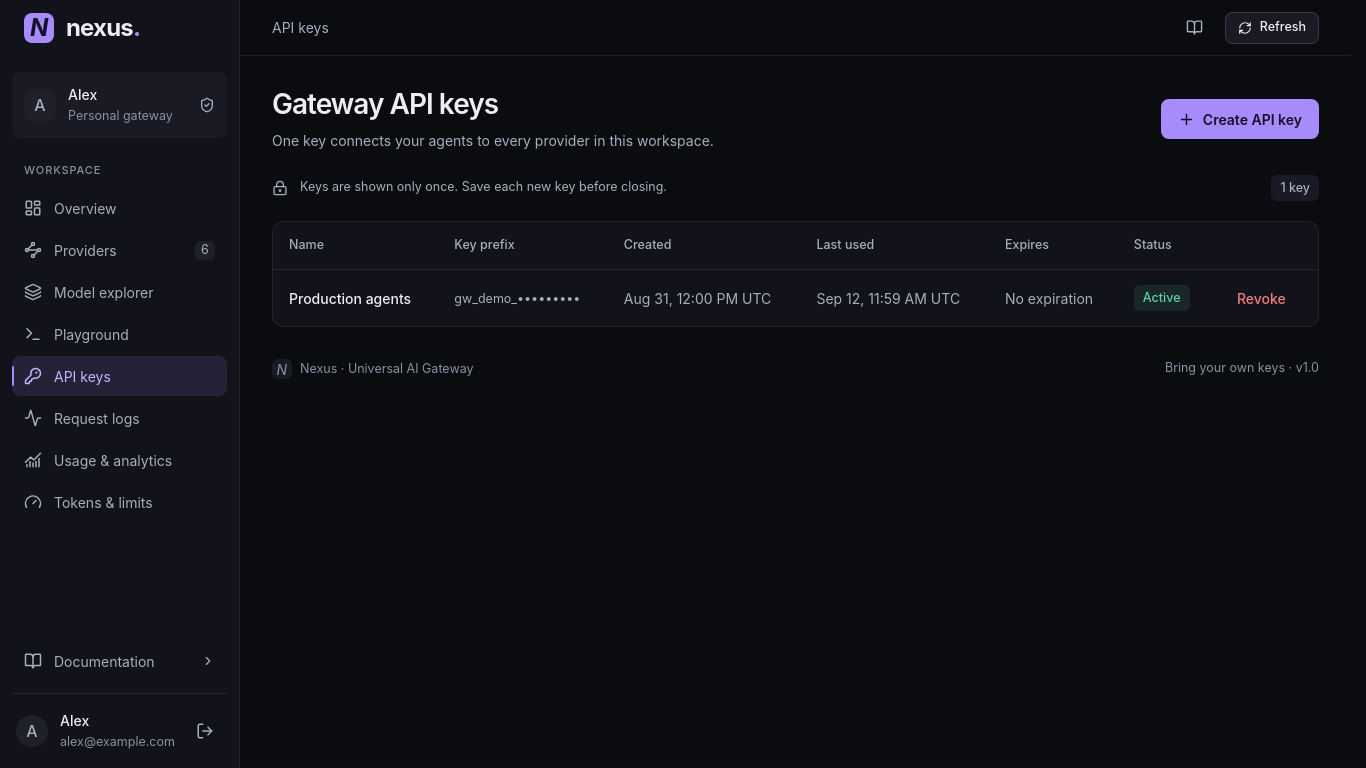
Test case: Authenticated workspace actions › keeps key-creation errors inside the active dialog
Click the button "Create API key" at {"x": 1240, "y": 119}, box [1161,99,1319,139]
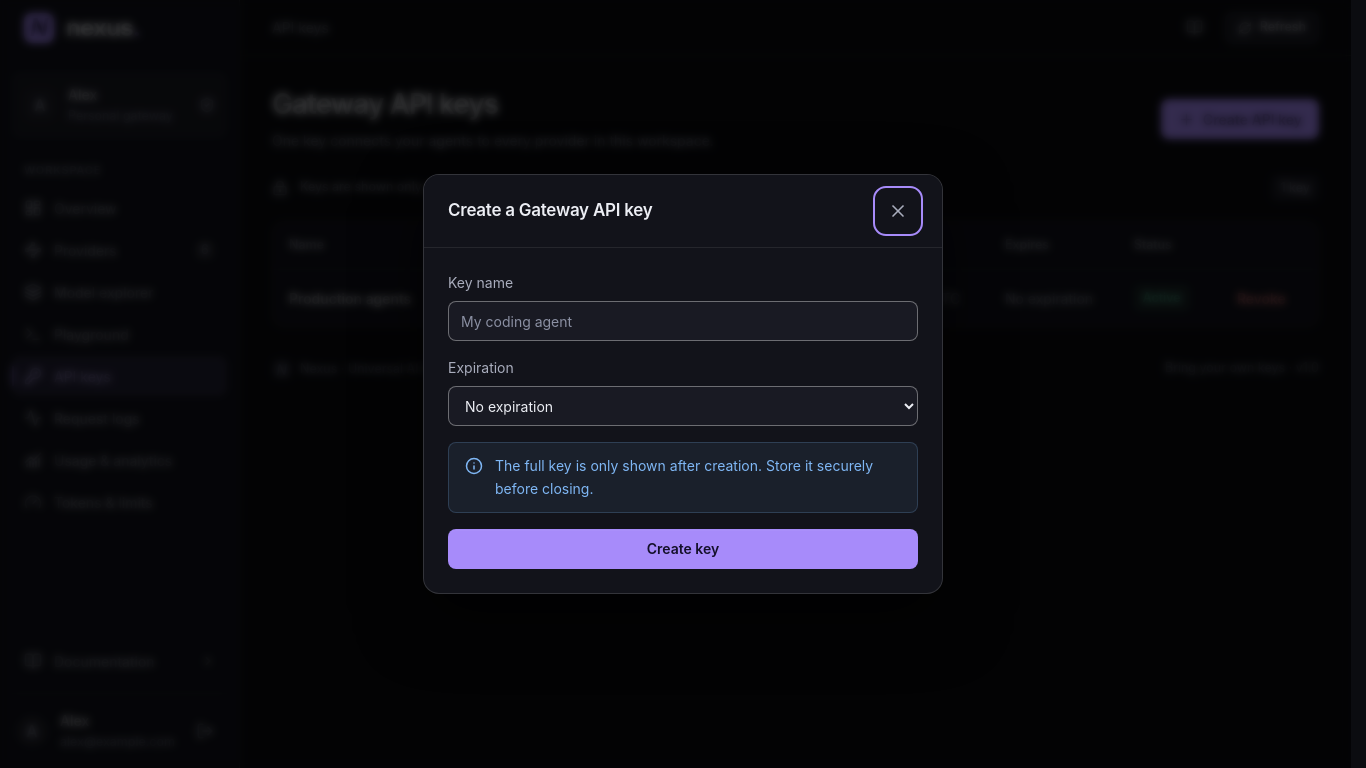
Type "Test agent" into the field labelled "Key name" at {"x": 683, "y": 321}, box [448,301,918,341]
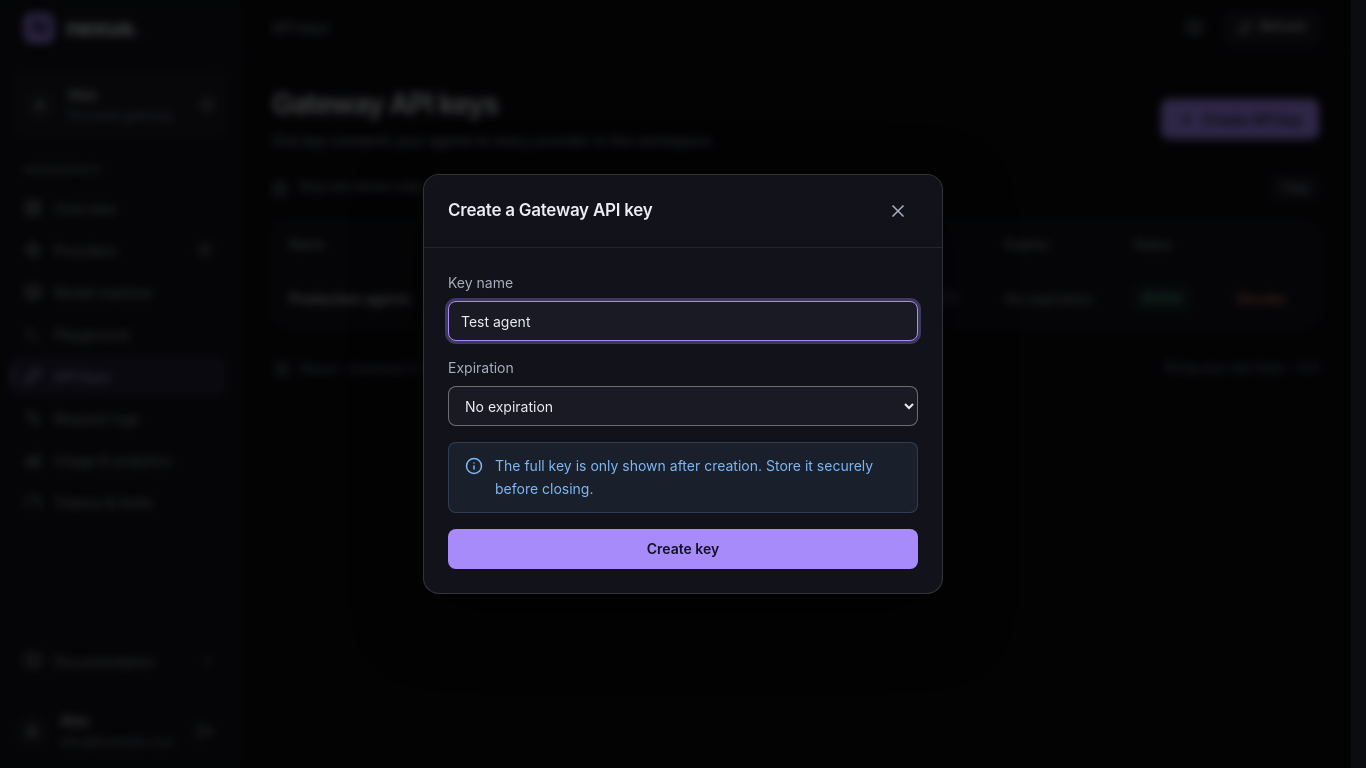
Click the button "Create key" at {"x": 683, "y": 549}, box [448,529,918,569]
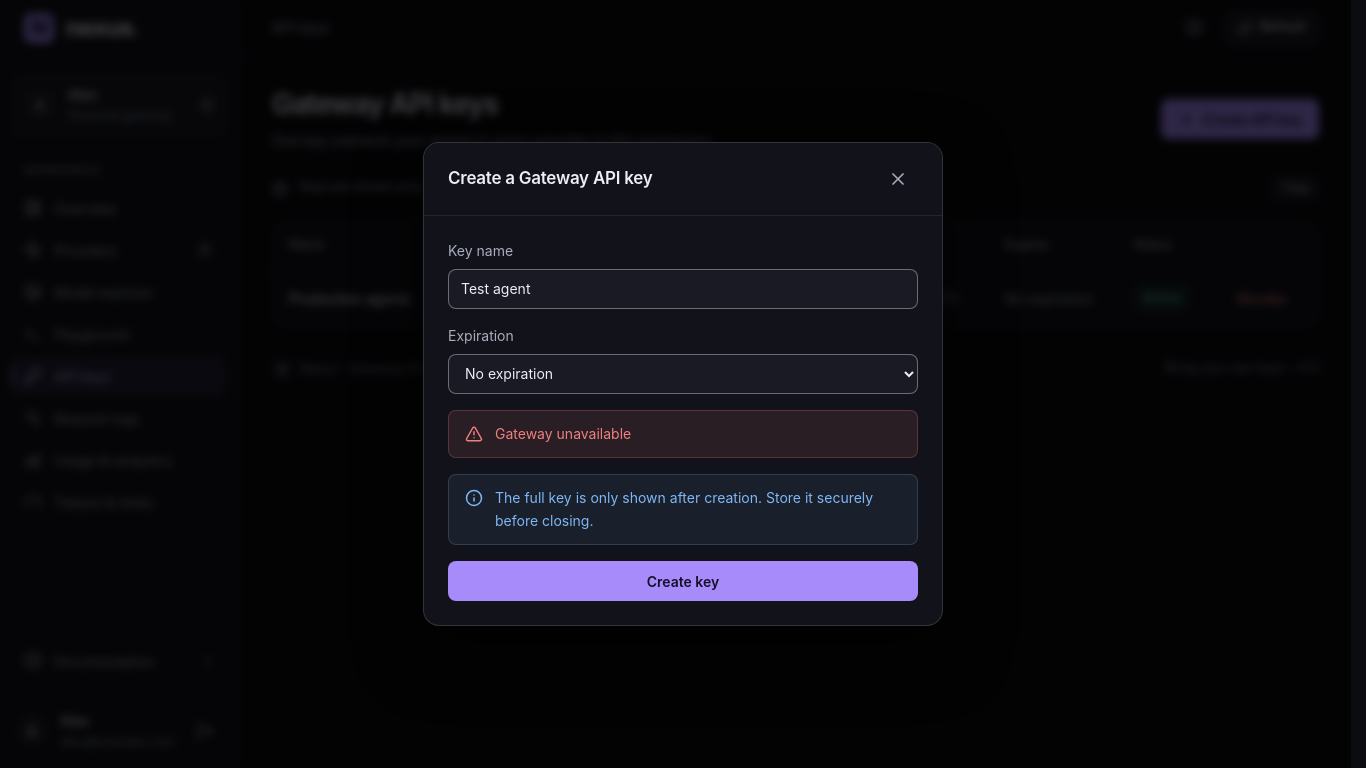
Expected: the button "Create key" is enabled, [448,561,918,601]
Expected: the message reads "Gateway unavailable", [495,425,631,442]
